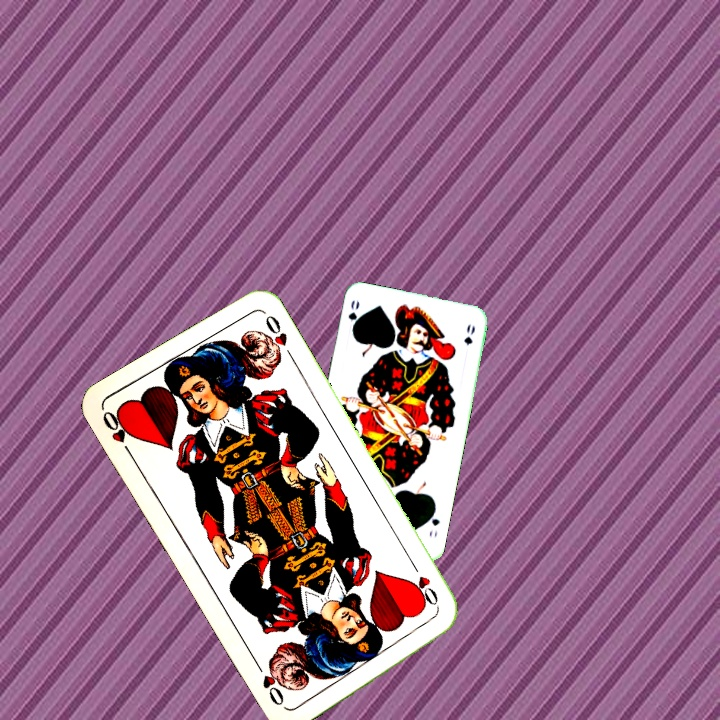GO: (344, 296, 362, 337), (425, 503, 442, 541)
HO: (98, 406, 136, 460), (407, 560, 443, 616)
